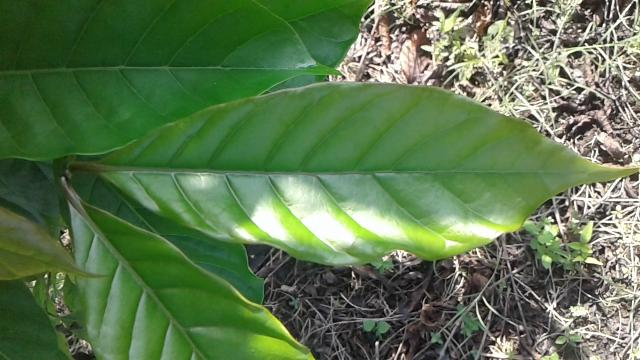healthy: (94, 81, 640, 266)
